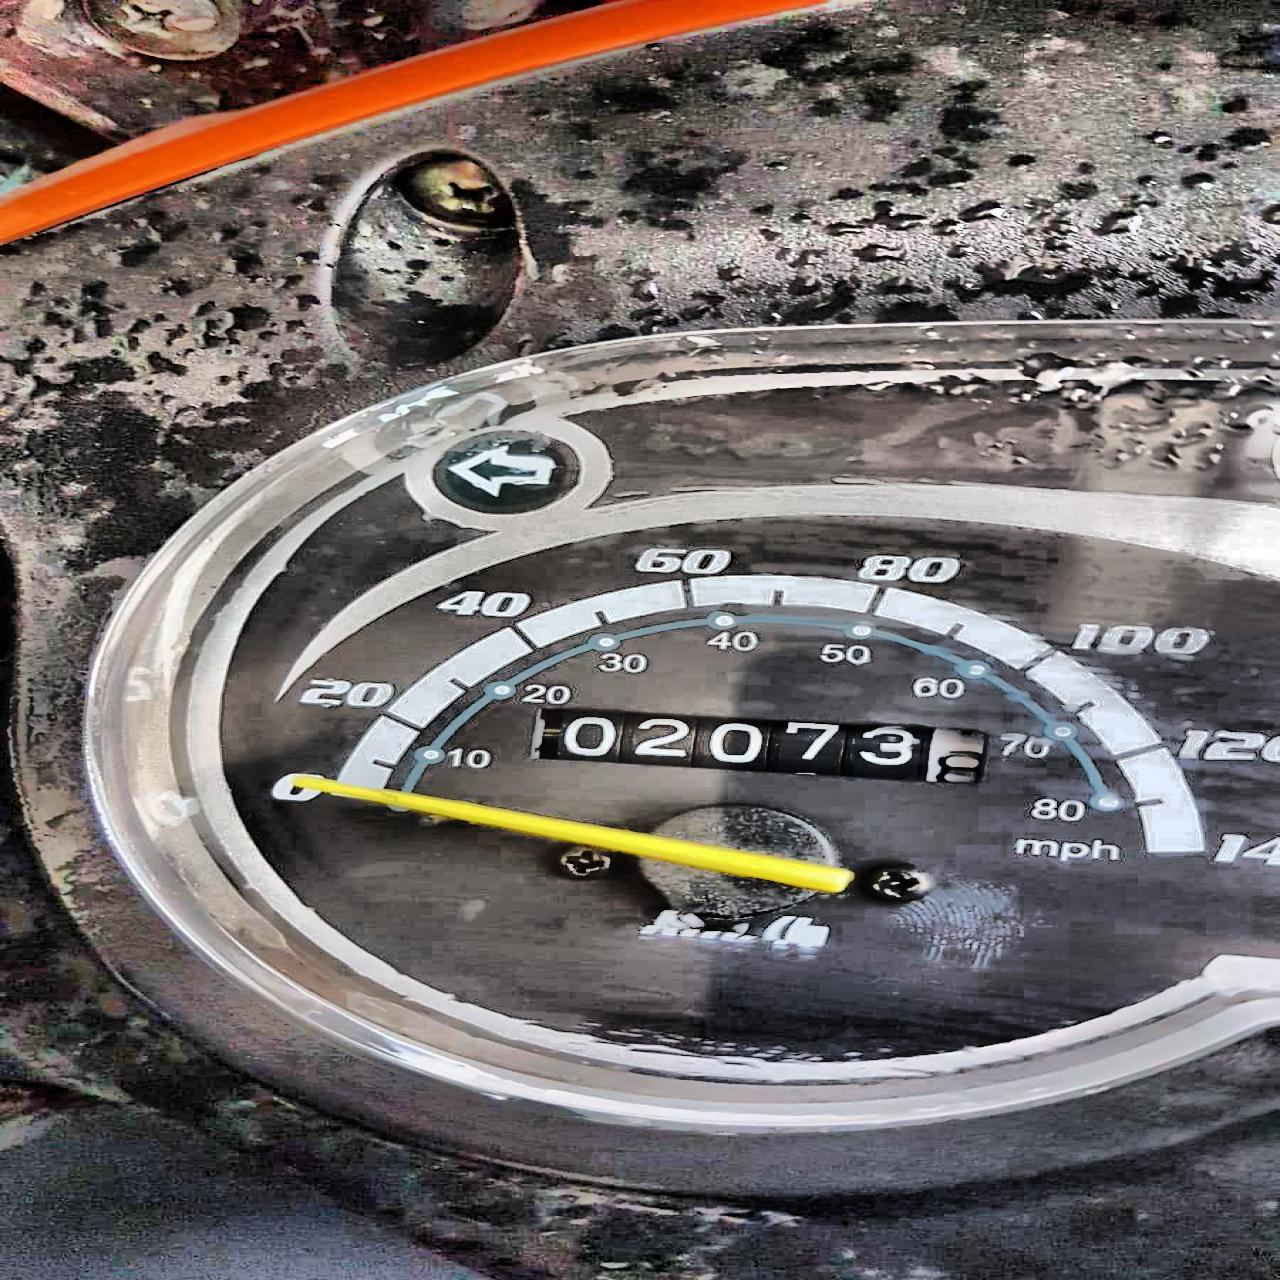0: (710, 719, 765, 767), (559, 713, 617, 757)
2: (633, 714, 688, 764)
3: (856, 724, 915, 769)
7: (782, 717, 842, 762)
8: (930, 743, 990, 788)
odometer: (532, 706, 1001, 791)
